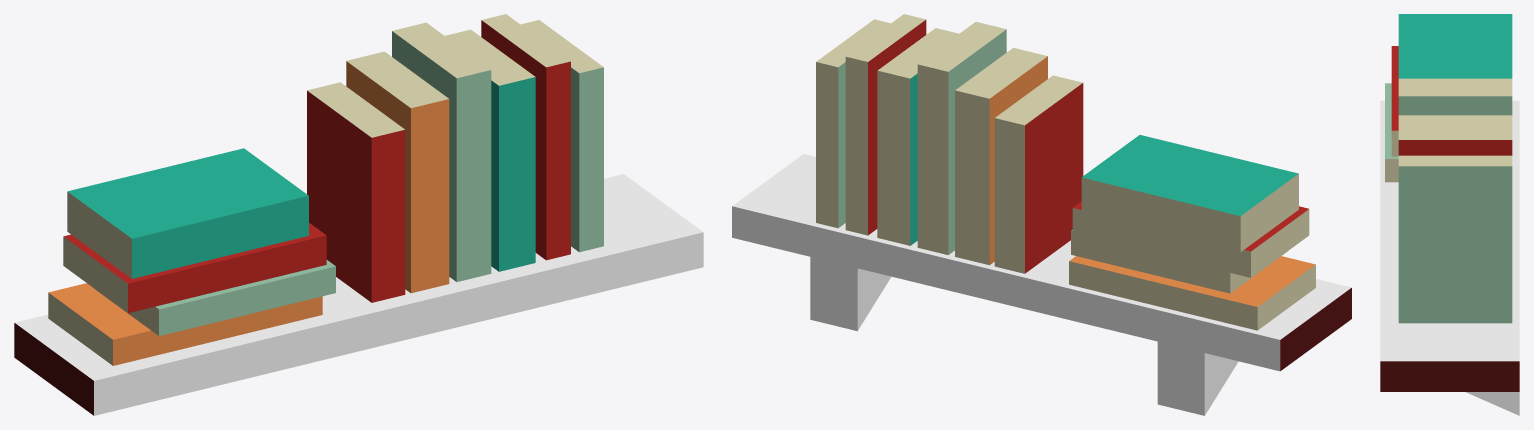
The model's file is bookshelf02.fbx.
The picture shows the model from 3 angles, left to right: view 1: azimuth 30°, elevation 25°; view 2: azimuth 150°, elevation 25°; view 3: azimuth 270°, elevation 25°; orthographic projection. The views are drawn at different scales.
Parts seen in each view (by area): view 1: bookshelf02; view 2: bookshelf02; view 3: bookshelf02.
Part boxes in pixels (x1,y1,x2,y2): bookshelf02: (14, 14, 703, 415); bookshelf02: (732, 14, 1351, 415); bookshelf02: (1380, 14, 1519, 415).
Size of the model in its own units: 5.43 by 2.63 by 1.23.
